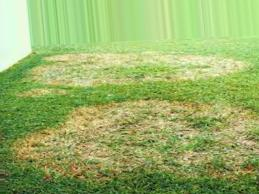patch: (134, 103, 185, 168), (49, 58, 209, 78), (192, 113, 251, 165), (89, 112, 128, 172), (34, 131, 81, 163)
